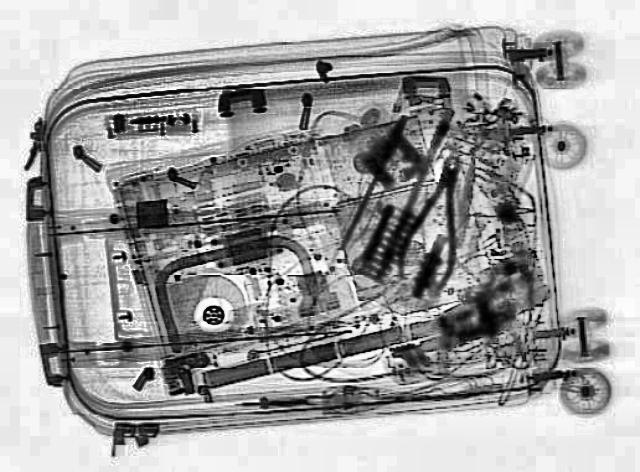Pliers: (384, 151, 488, 293)
